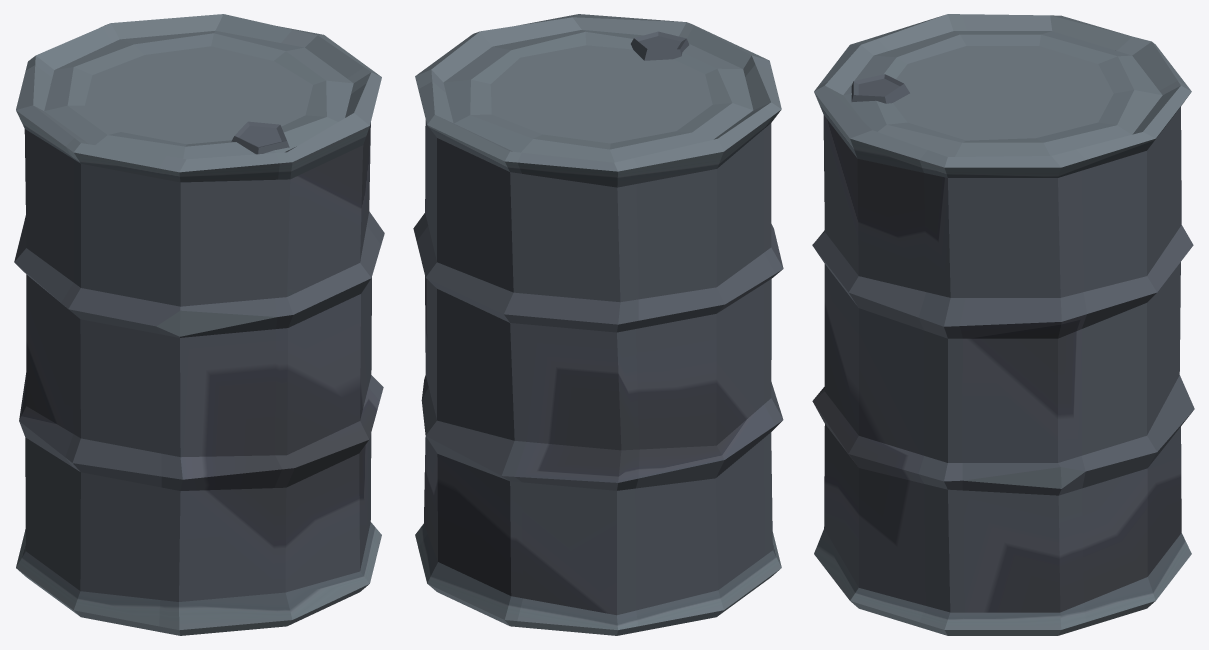
The model's file is SM_Barrel_A_01.fbx.
The picture shows the model from 3 angles, left to right: view 1: azimuth 30°, elevation 25°; view 2: azimuth 150°, elevation 25°; view 3: azimuth 270°, elevation 25°; orthographic projection.
Parts seen in each view (by area): view 1: SM_Barrel_A_01, SM_Lid_01; view 2: SM_Barrel_A_01, SM_Lid_01; view 3: SM_Barrel_A_01, SM_Lid_01.
Part boxes in pixels (x1,y1,x2,y2): SM_Barrel_A_01: [14, 14, 384, 635]; SM_Lid_01: [44, 30, 353, 159]; SM_Barrel_A_01: [413, 14, 783, 635]; SM_Lid_01: [443, 30, 753, 162]; SM_Barrel_A_01: [812, 14, 1194, 635]; SM_Lid_01: [843, 31, 1162, 156].
Size of the model in its own units: 62.44 by 90.35 by 65.19.
